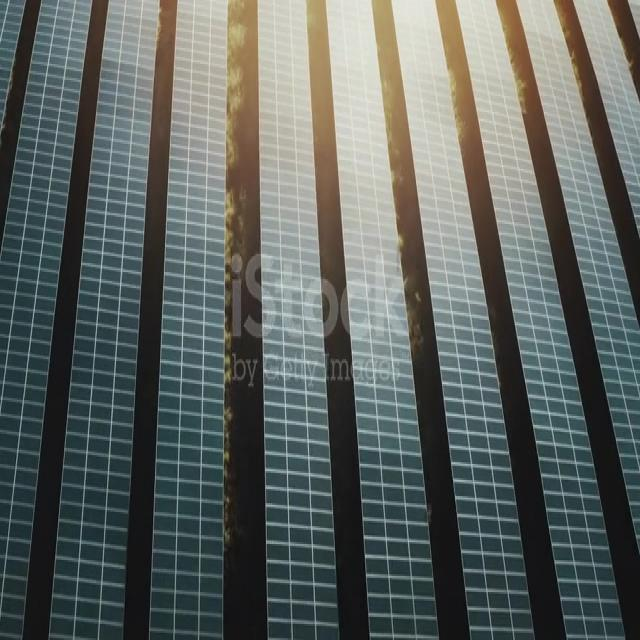Solar-panels: (456, 3, 626, 640), (392, 1, 535, 640), (327, 2, 442, 640), (49, 1, 160, 639), (520, 2, 640, 546), (2, 1, 94, 640), (259, 1, 344, 640), (149, 1, 228, 640), (578, 3, 640, 238), (3, 3, 27, 130)
